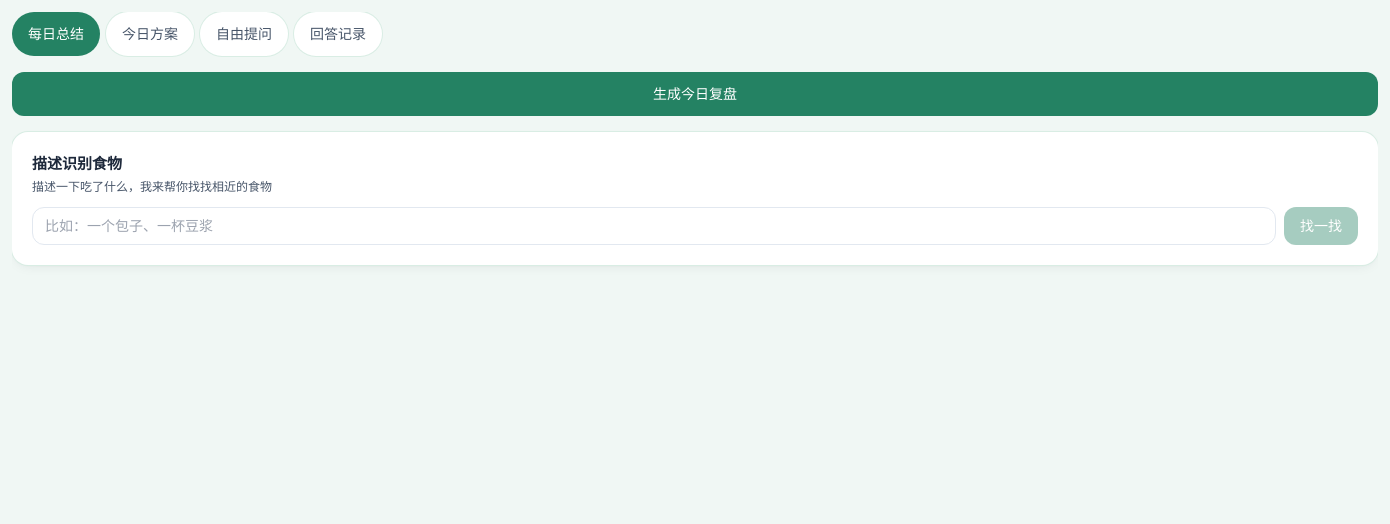
Test case: AI 执行轨迹（GAP-7） › 展示提问内容 / 状态 / 工具名 / 耗时
Click the tab "回答记录".
click(338, 34)  # box x1=294 y1=12 x2=382 y2=56
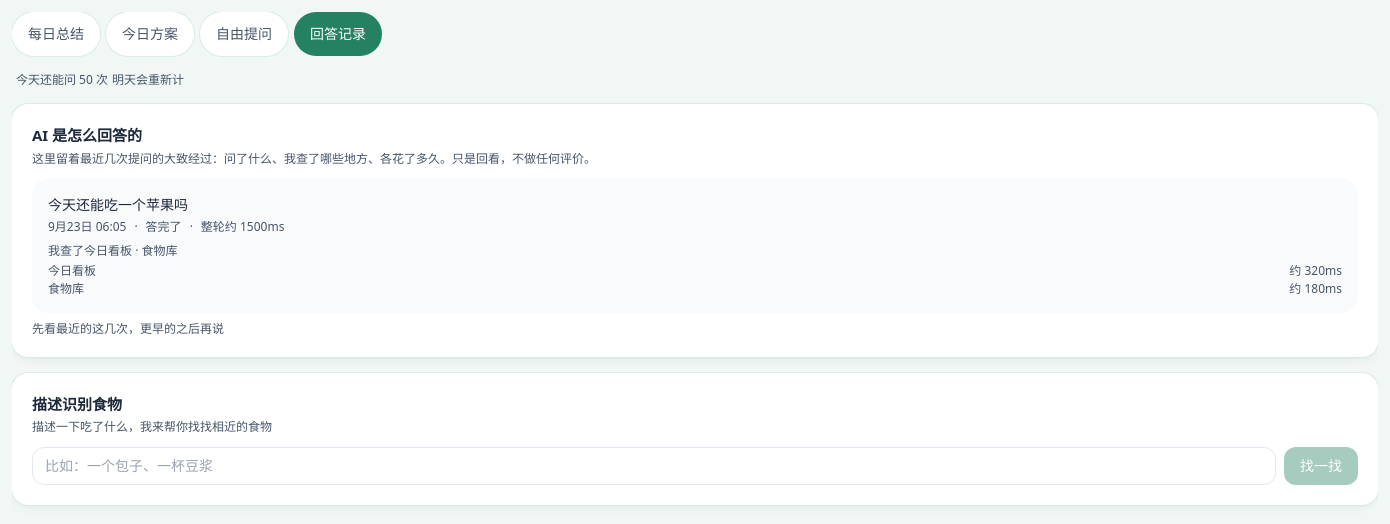
Expected: the list item with test id "ai-trace-1" is shown, x1=32 y1=178 x2=1358 y2=312
Expected: the text "今天还能吃一个苹果吗" is shown, x1=48 y1=194 x2=188 y2=214
Expected: the text "答完了" is shown, x1=146 y1=218 x2=182 y2=234
